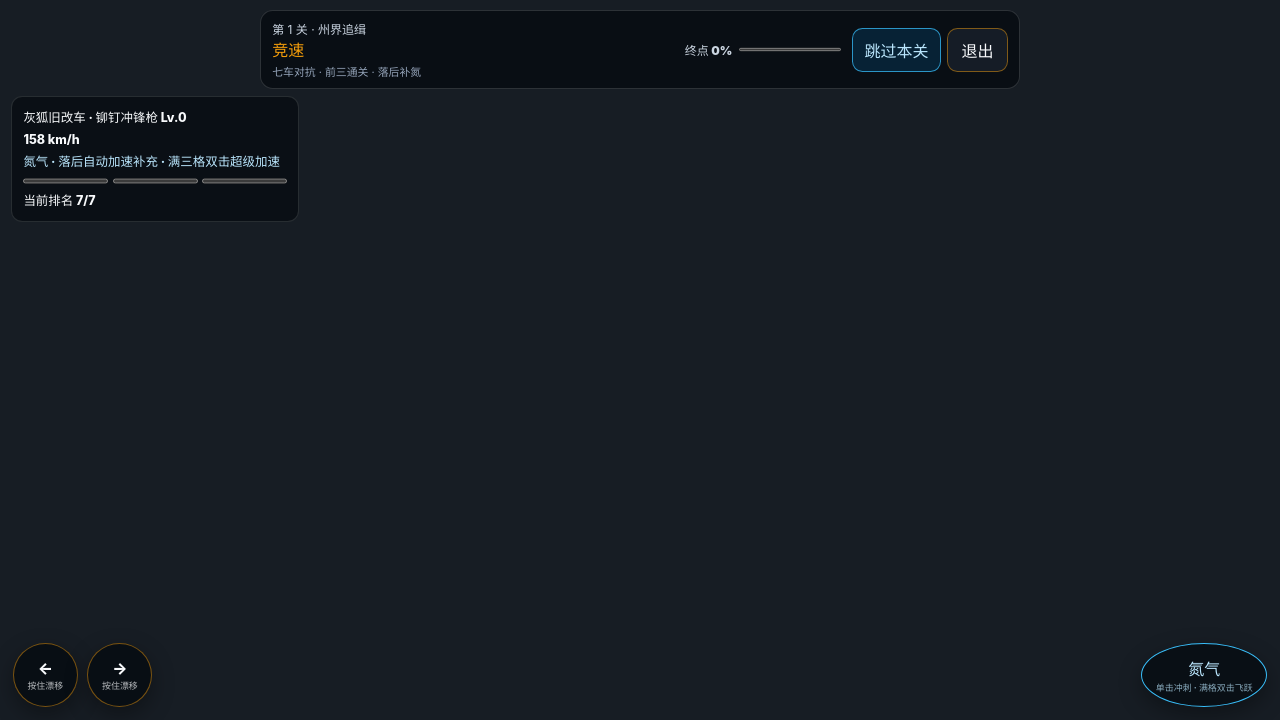
Test: RaceScreen V2 › confirms a skip before granting the normal first-clear and unlocking the next stage
The width and height of the screenshot is (1280, 720).
Click the button "跳过本关": {"x": 896, "y": 50} [852,28,941,72]
Wait 5000 ms
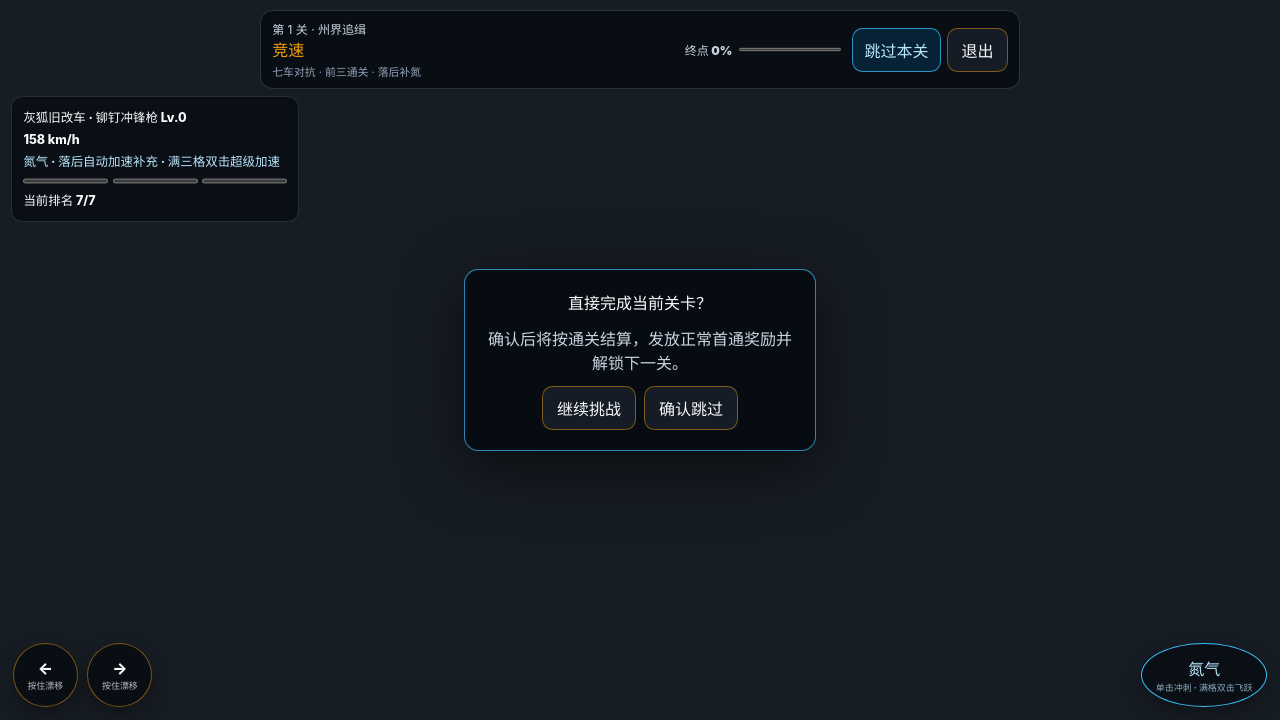
Check: the text "终点 0%" is shown, box [685,41,732,58]
Check: the dialog named "确认跳过当前 SUP 关卡" shows "发放正常首通奖励并解锁下一关", box [488,329,792,373]
Click the button "继续挑战": {"x": 589, "y": 408} [542,386,636,430]
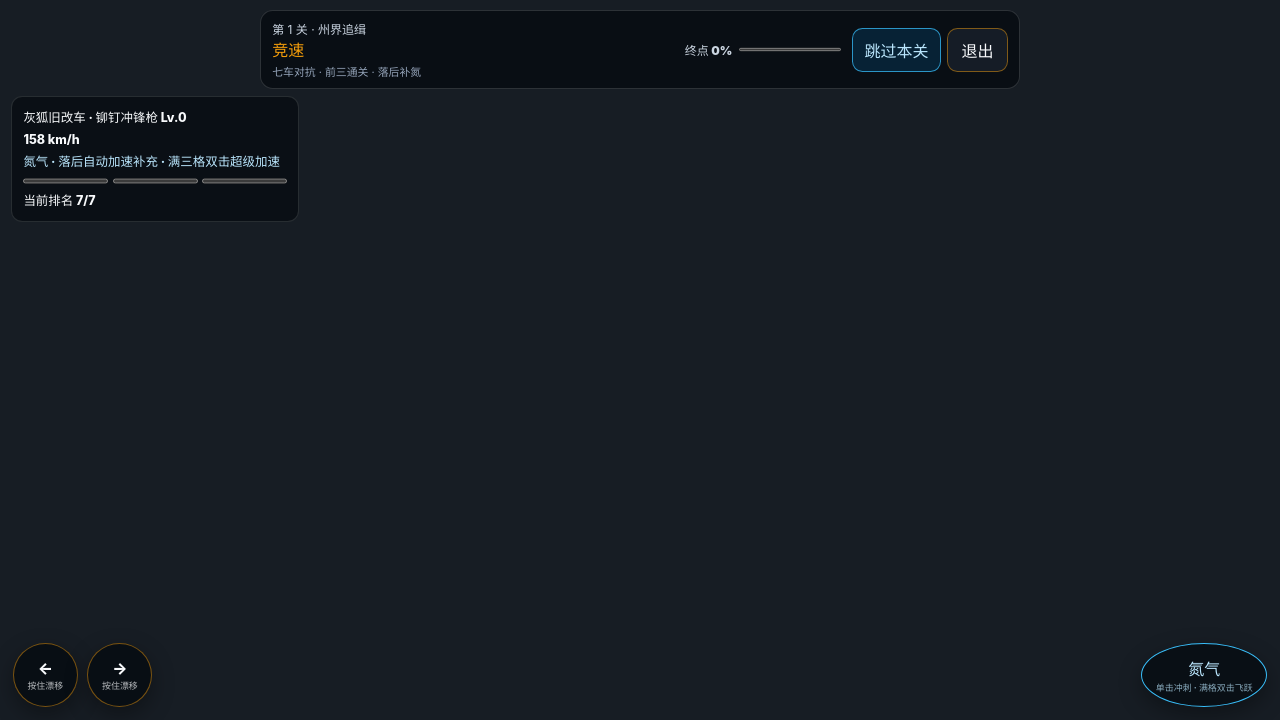
Click the button "跳过本关": {"x": 896, "y": 50} [852,28,941,72]
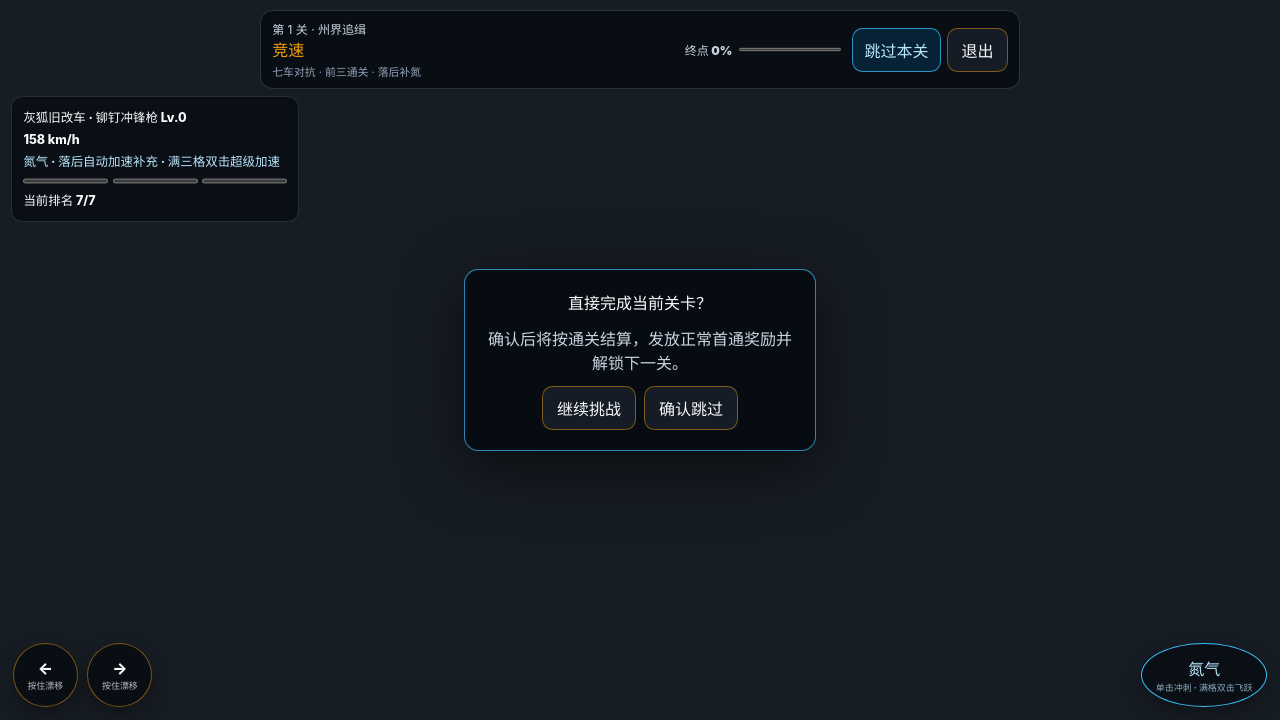
Click the button "确认跳过": {"x": 691, "y": 408} [644,386,738,430]
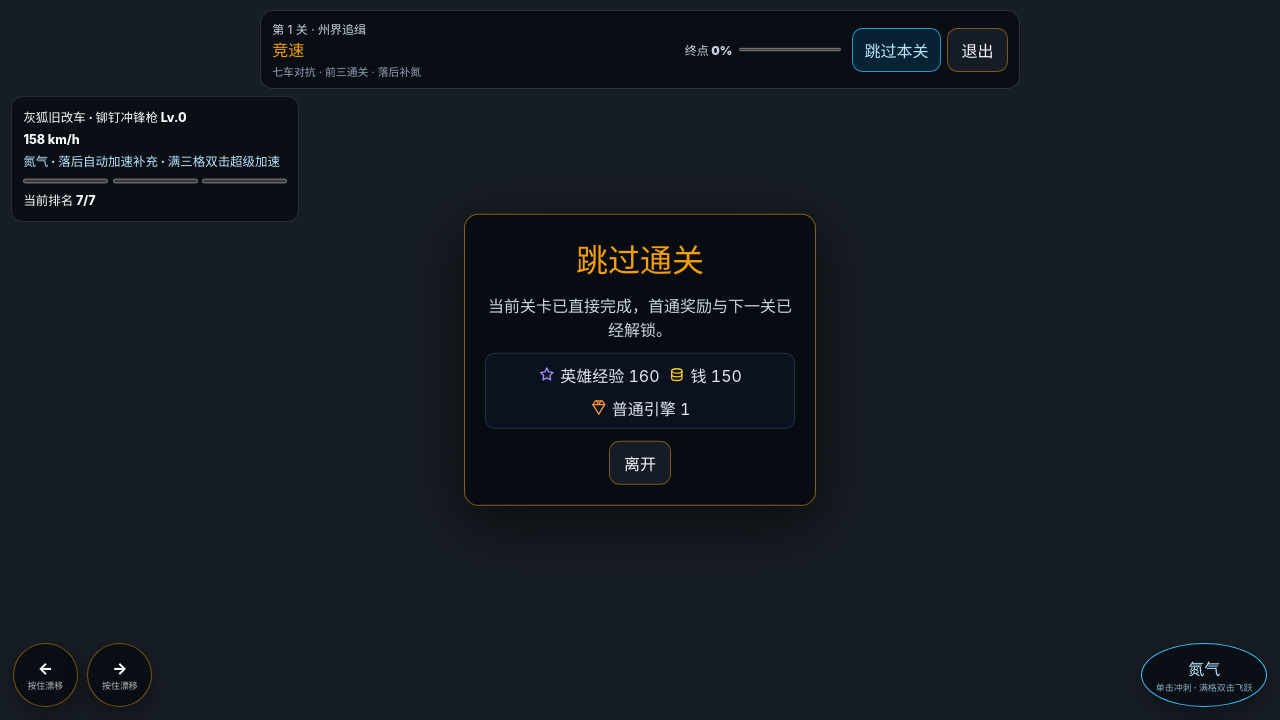
Check: the text "跳过通关" is shown, box [576,241,704,280]
Check: the text "当前关卡已直接完成，首通奖励与下一关已经解锁。" is shown, box [485,293,795,341]
